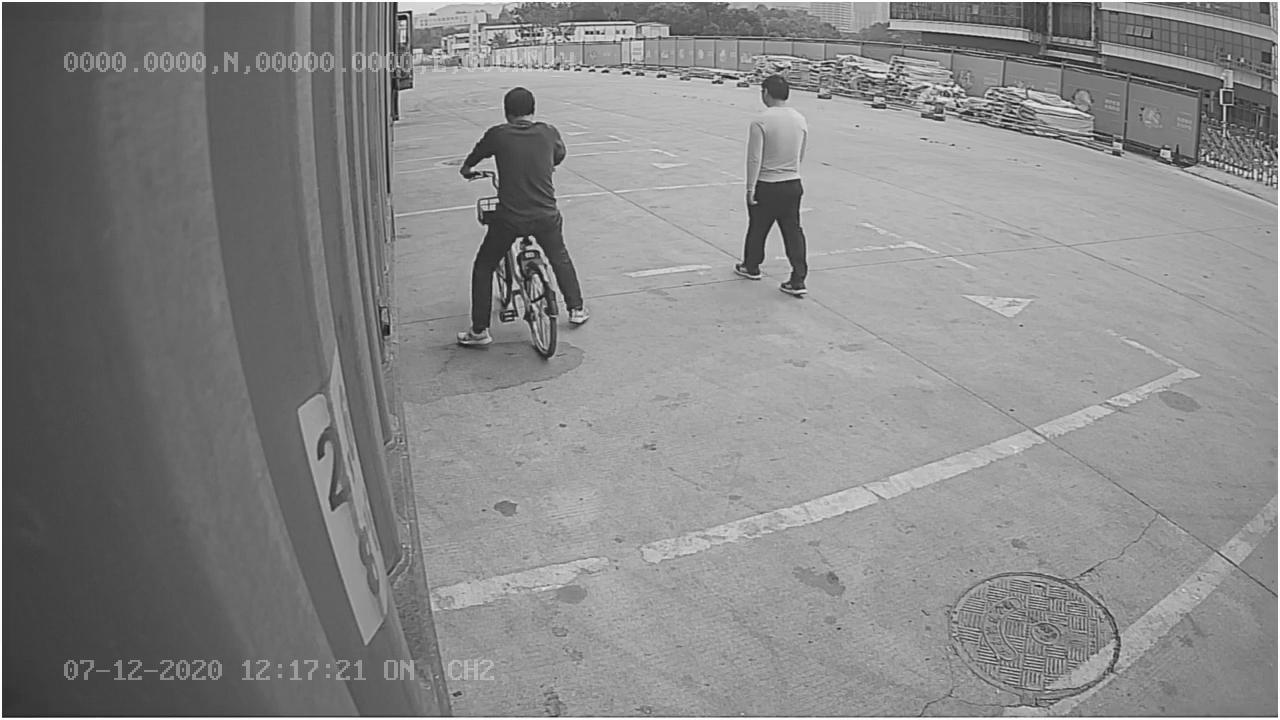person: (726, 71, 814, 300)
